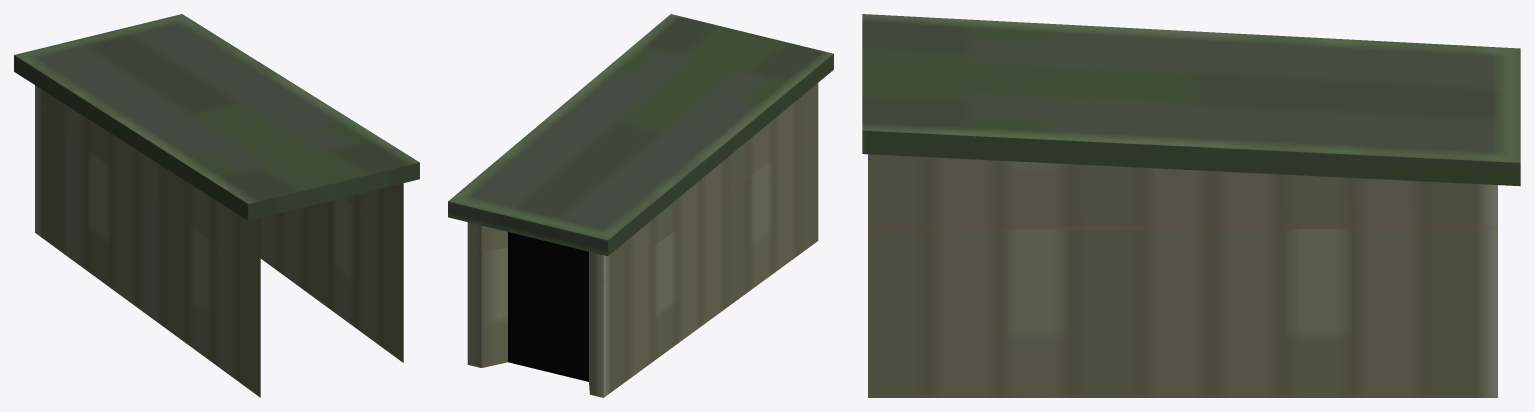
File: roof_window_v1a002.fbx
The picture shows the model from 3 angles, left to right: view 1: azimuth 30°, elevation 25°; view 2: azimuth 150°, elevation 25°; view 3: azimuth 270°, elevation 25°; orthographic projection. The views are drawn at different scales.
Visible parts, largest first — view 1: roof_window_v1a002; view 2: roof_window_v1a002; view 3: roof_window_v1a002.
Boxes of the visible parts, <box> form: roof_window_v1a002: <box>14,14,419,397</box>; roof_window_v1a002: <box>448,14,833,397</box>; roof_window_v1a002: <box>862,14,1520,397</box>.
Bounding box in the file's own units: 148 × 164 × 354.
